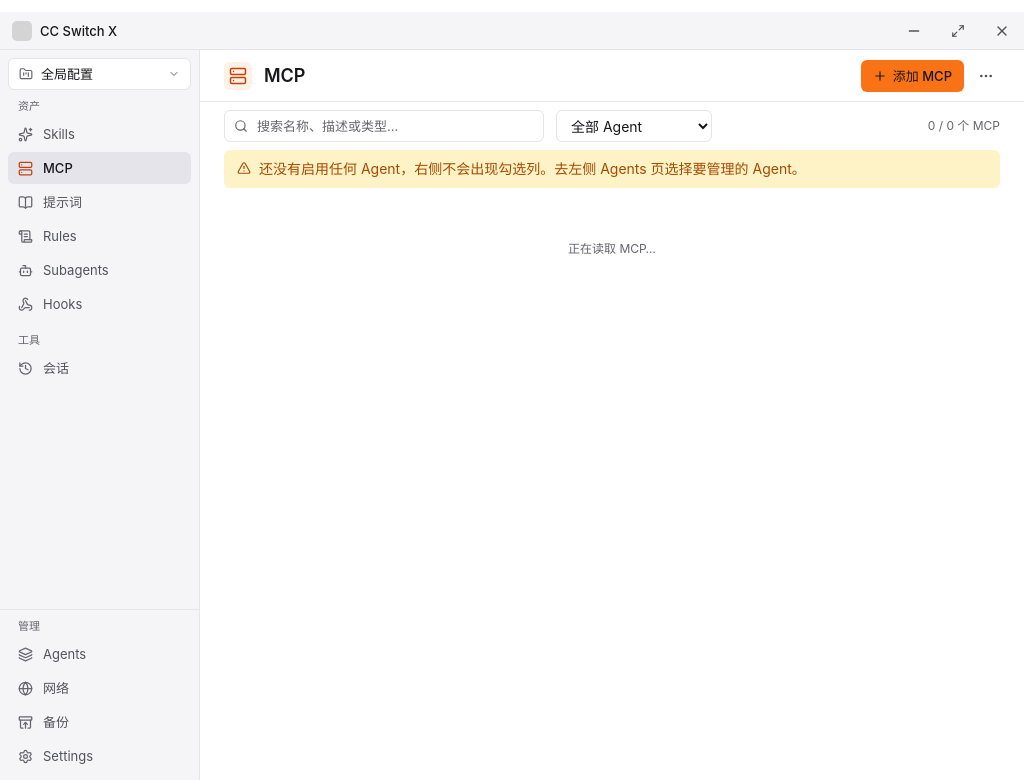
Test: renders all sidebar entries and switches panes
Expected: the button "MCP" is shown, [8,152,191,184]
Expected: the button "Skills" is shown, [8,118,191,150]
Click the button "Rules": (100, 236) [8,220,191,252]
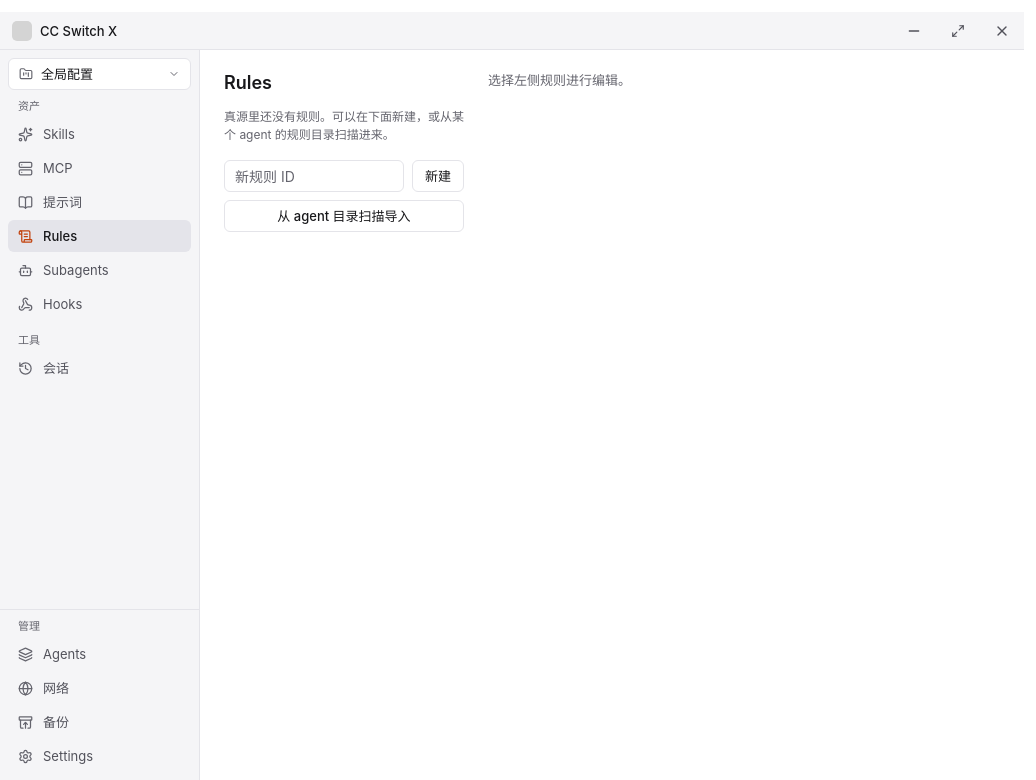
Expected: the heading "Rules" is shown, [224,72,272,93]
